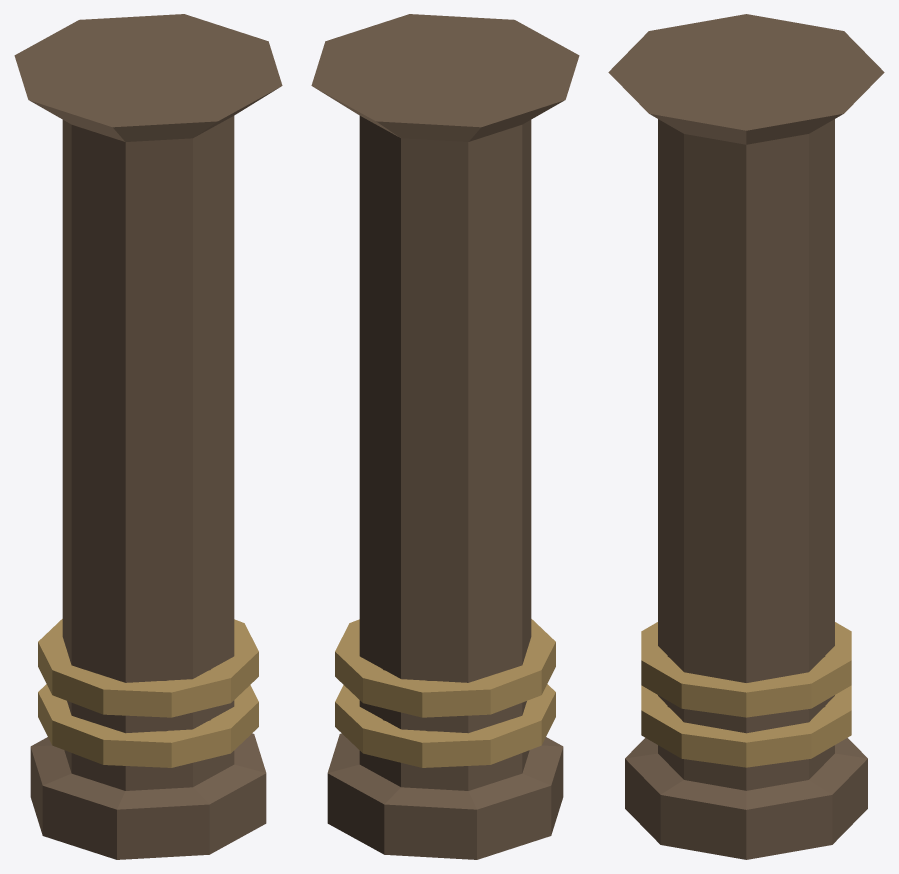
The model's file is jetty-post.glb.
3 renders of one model, left to right at view 1: azimuth 30°, elevation 25°; view 2: azimuth 150°, elevation 25°; view 3: azimuth 270°, elevation 25°, orthographic.
Visible parts, largest first — view 1: jetty-post__body; view 2: jetty-post__body; view 3: jetty-post__body.
Boxes of the visible parts, left/top/right/bottom form: jetty-post__body: left=14, top=14, right=282, bottom=859; jetty-post__body: left=311, top=14, right=579, bottom=859; jetty-post__body: left=608, top=14, right=884, bottom=859.
Bounding box in the file's own units: 0.5 × 1.47 × 0.5.
